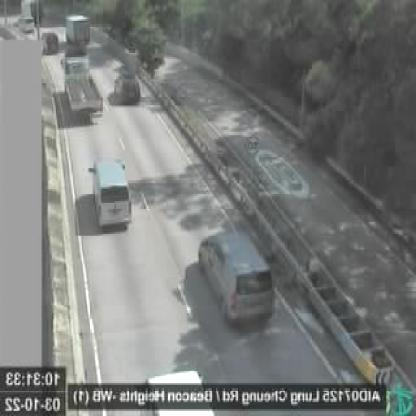Car: (200, 231, 276, 322), (90, 158, 135, 227)
Truck: (62, 48, 103, 111), (65, 14, 91, 41)
